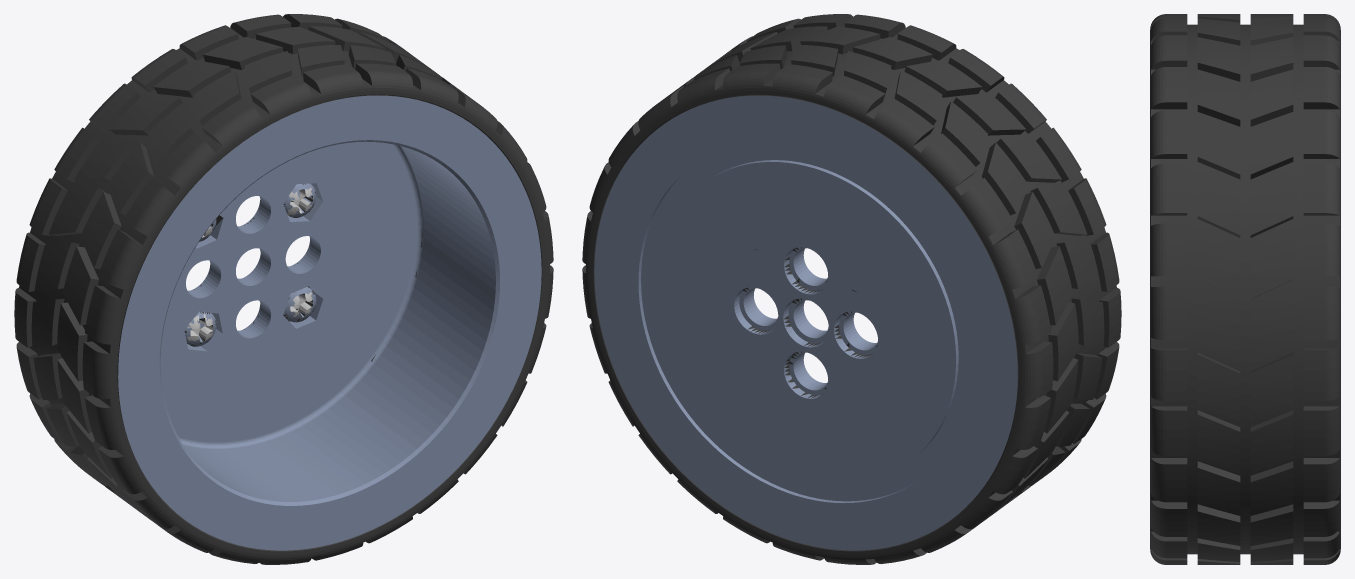
Rendered from wheel_link.dae.
The picture shows the model from 3 angles, left to right: view 1: azimuth 30°, elevation 25°; view 2: azimuth 150°, elevation 25°; view 3: azimuth 270°, elevation 25°; orthographic projection. The views are drawn at different scales.
Visible parts, largest first — view 1: Robot Wheel; view 2: Robot Wheel; view 3: Robot Wheel.
Boxes of the visible parts, bbox=[...] form: Robot Wheel: bbox=[14, 14, 553, 564]; Robot Wheel: bbox=[582, 14, 1121, 564]; Robot Wheel: bbox=[1150, 14, 1340, 564].
Size of the model in its own units: 0.052 by 0.018 by 0.052.
